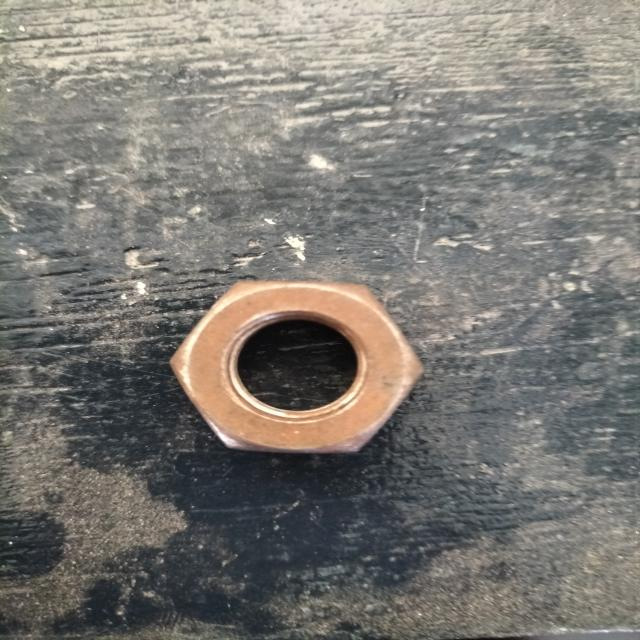nuts: (168, 282, 424, 454)
